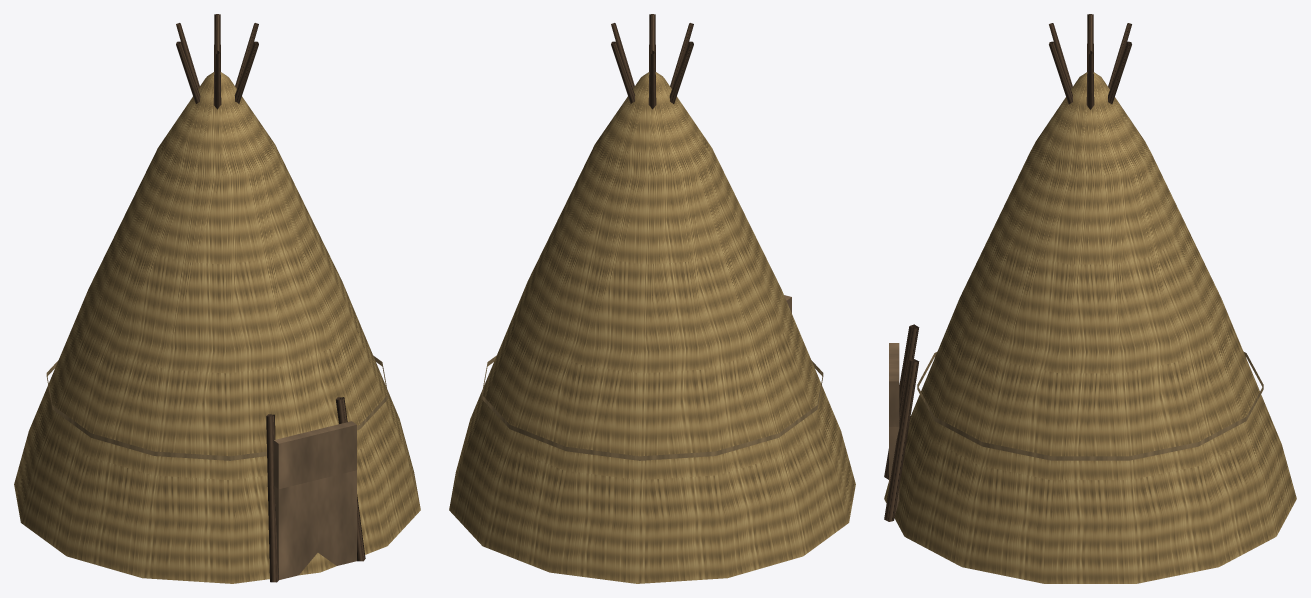
Rendered from Hut_Cone_Thatch_1.gltf.
3 views of the same model, side by side, from view 1: azimuth 30°, elevation 25°; view 2: azimuth 150°, elevation 25°; view 3: azimuth 270°, elevation 25° (orthographic).
Parts seen in each view (by area): view 1: Hut_Cone_Thatch_1; view 2: Hut_Cone_Thatch_1; view 3: Hut_Cone_Thatch_1.
Boxes of the visible parts, bbox=[...] form: Hut_Cone_Thatch_1: bbox=[14, 14, 420, 583]; Hut_Cone_Thatch_1: bbox=[449, 14, 855, 583]; Hut_Cone_Thatch_1: bbox=[884, 14, 1296, 583].
Size of the model in its own units: 4 by 5.12 by 4.1.
Materials: 4 (4 with a texture image).
